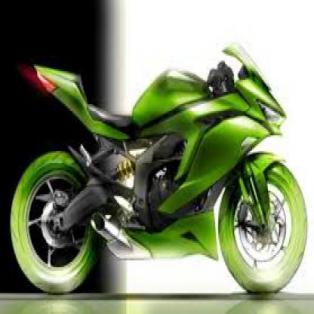Motocicleta: (8, 43, 307, 304)
